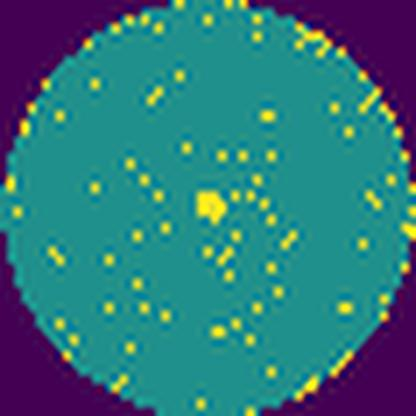Center: (196, 191, 227, 225)
